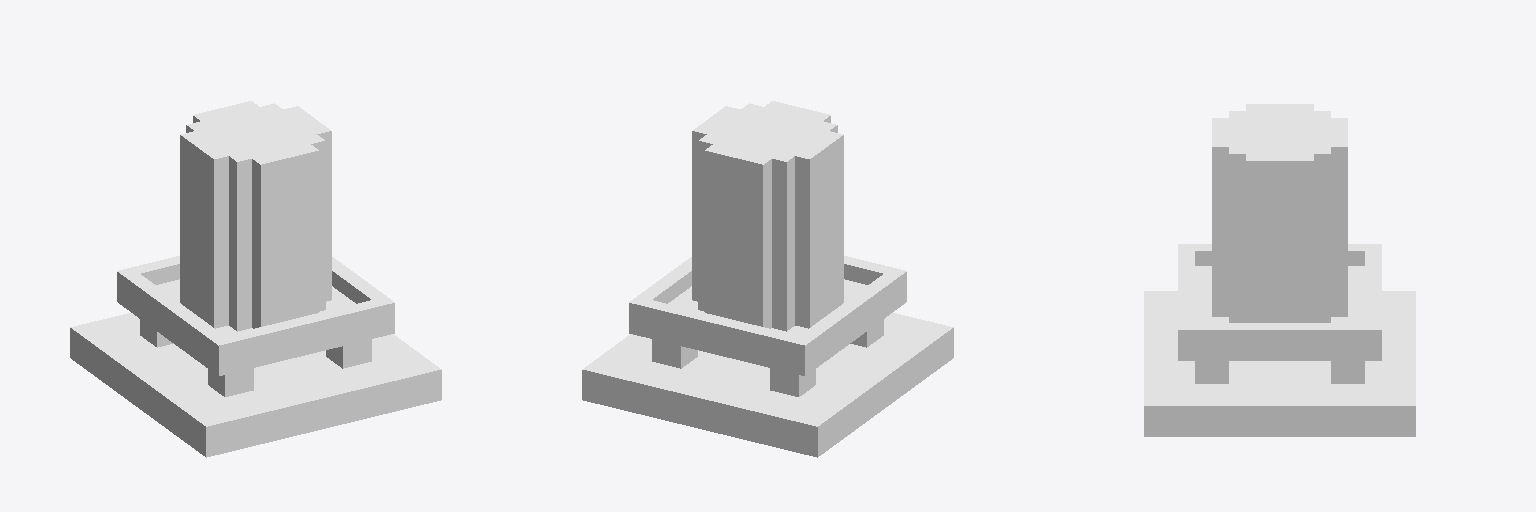
The model's file is booster.obj.
3 renders of one model, left to right at view 1: azimuth 30°, elevation 25°; view 2: azimuth 150°, elevation 25°; view 3: azimuth 270°, elevation 25°, orthographic.
Parts seen in each view (by area): view 1: object 1; view 2: object 1; view 3: object 1.
Part boxes in pixels (x1,y1,x2,y2): object 1: (70, 101, 441, 457); object 1: (582, 101, 953, 457); object 1: (1144, 104, 1415, 436).
Bounding box in the file's own units: 1.6 × 1.6 × 1.6.